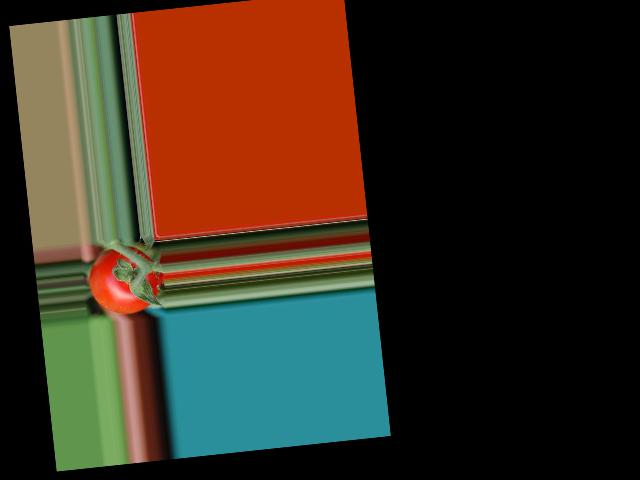tomato: (86, 242, 166, 318)
